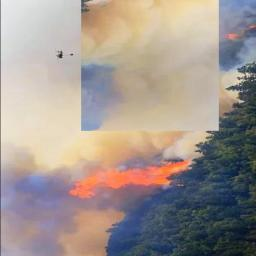Heavy smoke: (0, 0, 232, 254)
Small fire: (72, 158, 185, 189)
